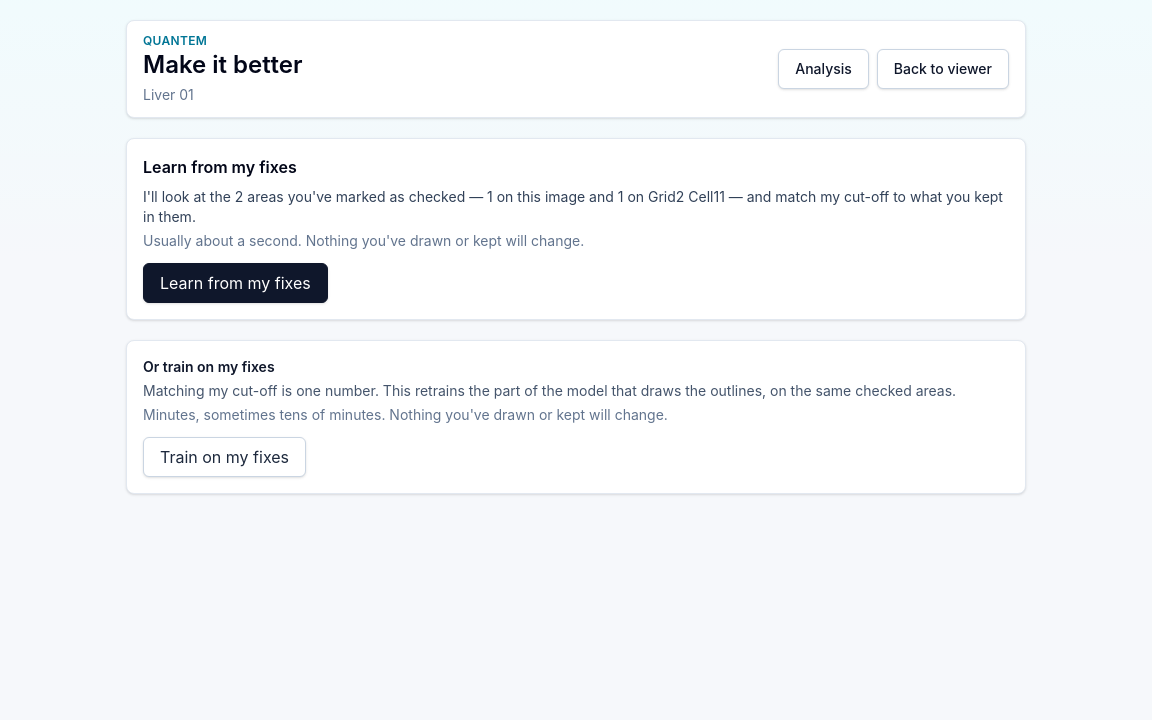
Test: ImprovePanel › can be pressed a second time, with no browser storage to clear
Click the button with test id "learn-from-my-fixes": point(235, 283) [143, 263, 328, 303]
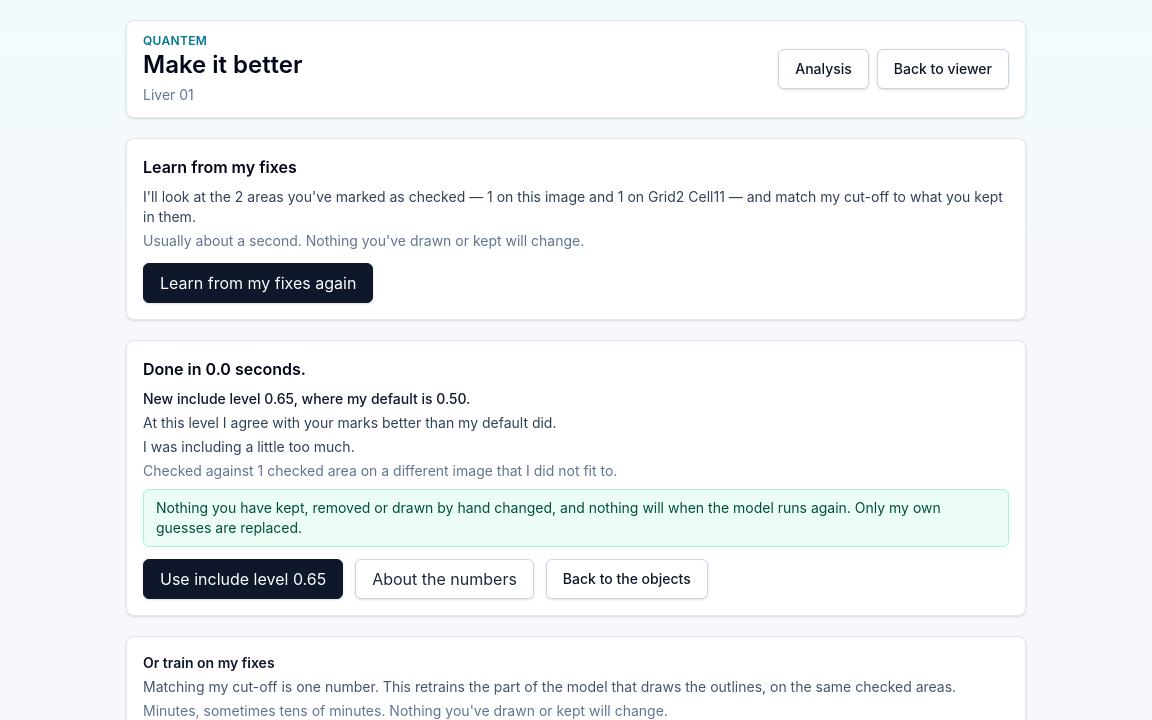
Now the element with test id "improve-result" is shown, box [126, 340, 1026, 616]
Now the button with test id "learn-from-my-fixes" reads "Learn from my fixes again"
Click the button with test id "learn-from-my-fixes": point(258, 283) [143, 263, 373, 303]
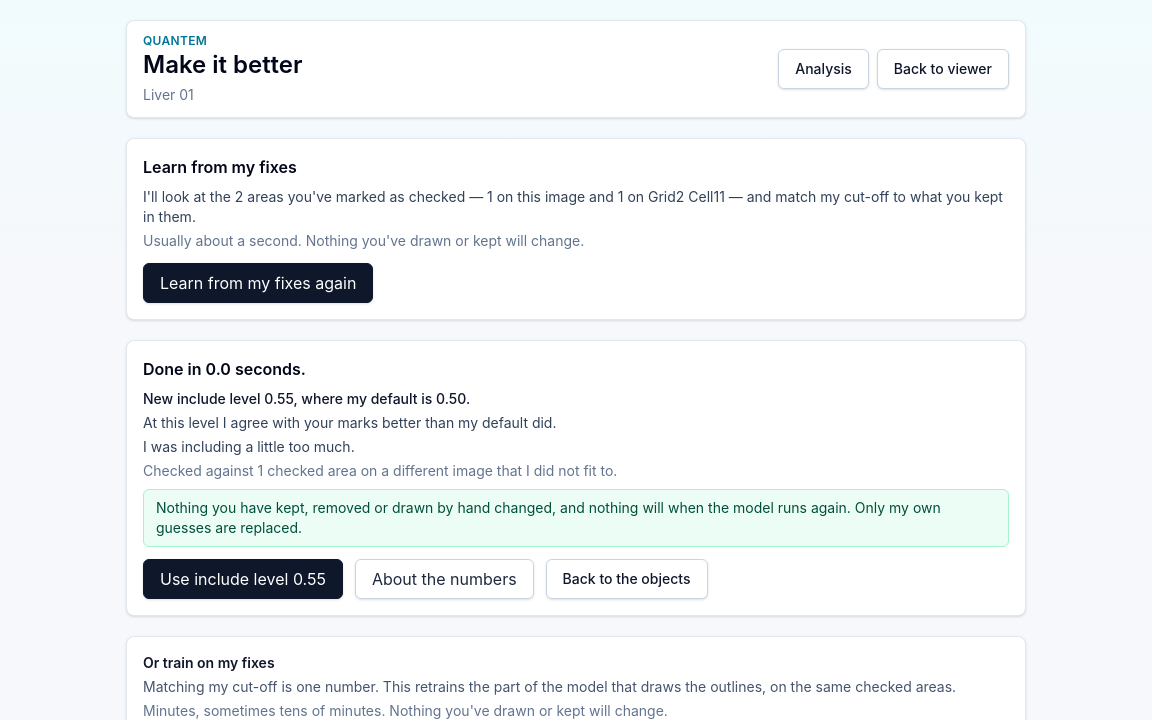
Now the text "New include level 0.55, where my default is 0.50." is shown, box [143, 390, 470, 407]
